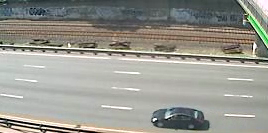car: (150, 106, 208, 132)
